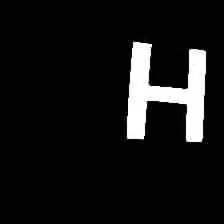LTR_H: (116, 31, 211, 150)
